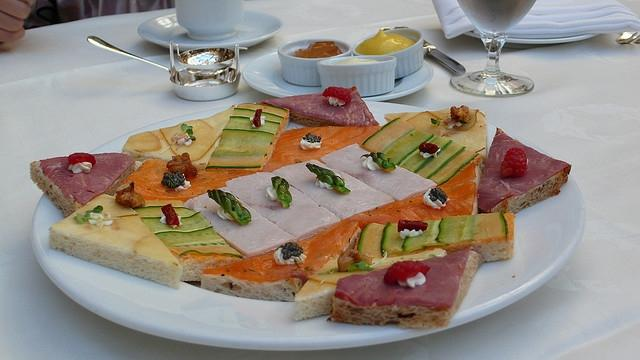asparagus: (207, 189, 252, 225), (305, 162, 351, 194), (360, 152, 396, 172), (271, 176, 292, 208)
cucumber: (362, 118, 435, 166), (155, 227, 243, 258), (206, 129, 274, 169), (435, 209, 509, 244), (398, 136, 453, 173), (416, 142, 466, 179), (428, 150, 479, 186), (142, 211, 212, 234), (381, 221, 426, 256), (224, 116, 280, 144), (402, 219, 449, 252), (357, 222, 386, 258), (232, 108, 284, 124), (133, 206, 199, 218), (236, 103, 288, 118)
